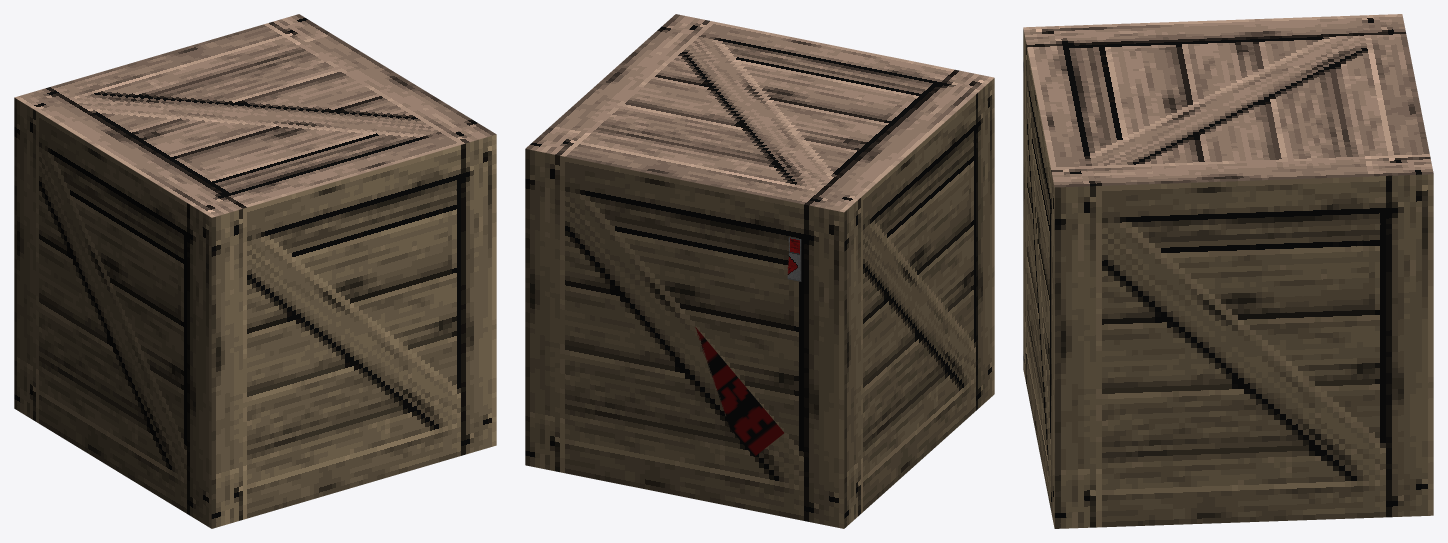
File: primary_089.glb
The picture shows the model from 3 angles, left to right: view 1: azimuth 30°, elevation 25°; view 2: azimuth 150°, elevation 25°; view 3: azimuth 270°, elevation 25°; orthographic projection. The views are drawn at different scales.
Parts seen in each view (by area): view 1: Object; view 2: Object; view 3: Object.
Part boxes in pixels (x1=…): Object: x1=14, y1=14, x2=496, y2=528; Object: x1=525, y1=14, x2=994, y2=528; Object: x1=1023, y1=14, x2=1433, y2=528.
Size of the model in its own units: 1.22 by 1.12 by 1.22.
Materials: 7 (7 with a texture image).
